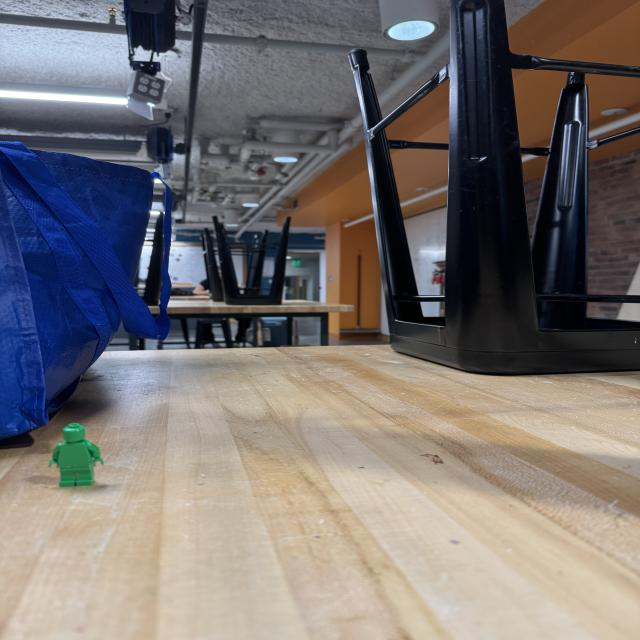Green Mini Figure: (49, 423, 103, 486)
